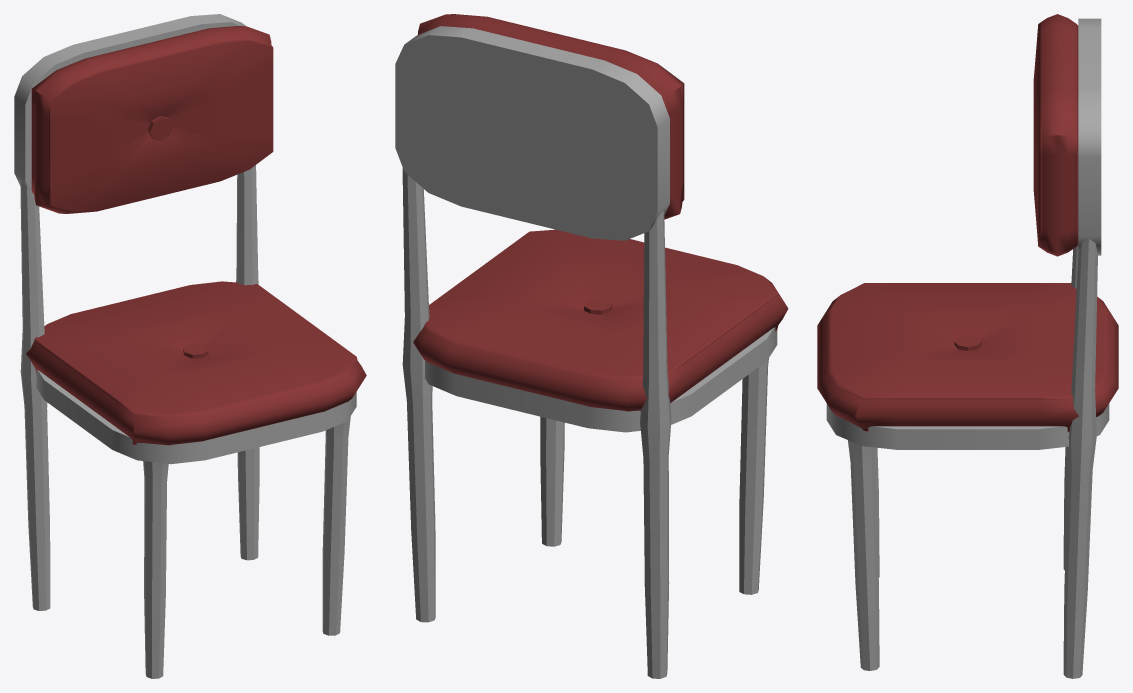
The model's file is Recepcao_Cadeira.fbx.
3 renders of one model, left to right at view 1: azimuth 30°, elevation 25°; view 2: azimuth 150°, elevation 25°; view 3: azimuth 270°, elevation 25°, orthographic. The views are drawn at different scales.
Parts seen in each view (by area): view 1: Cadeira; view 2: Cadeira; view 3: Cadeira.
Boxes of the visible parts, bbox=[...] form: Cadeira: bbox=[14, 14, 366, 678]; Cadeira: bbox=[395, 14, 788, 678]; Cadeira: bbox=[817, 14, 1118, 678].
Size of the model in its own units: 0.64 by 1.4 by 0.6727.
